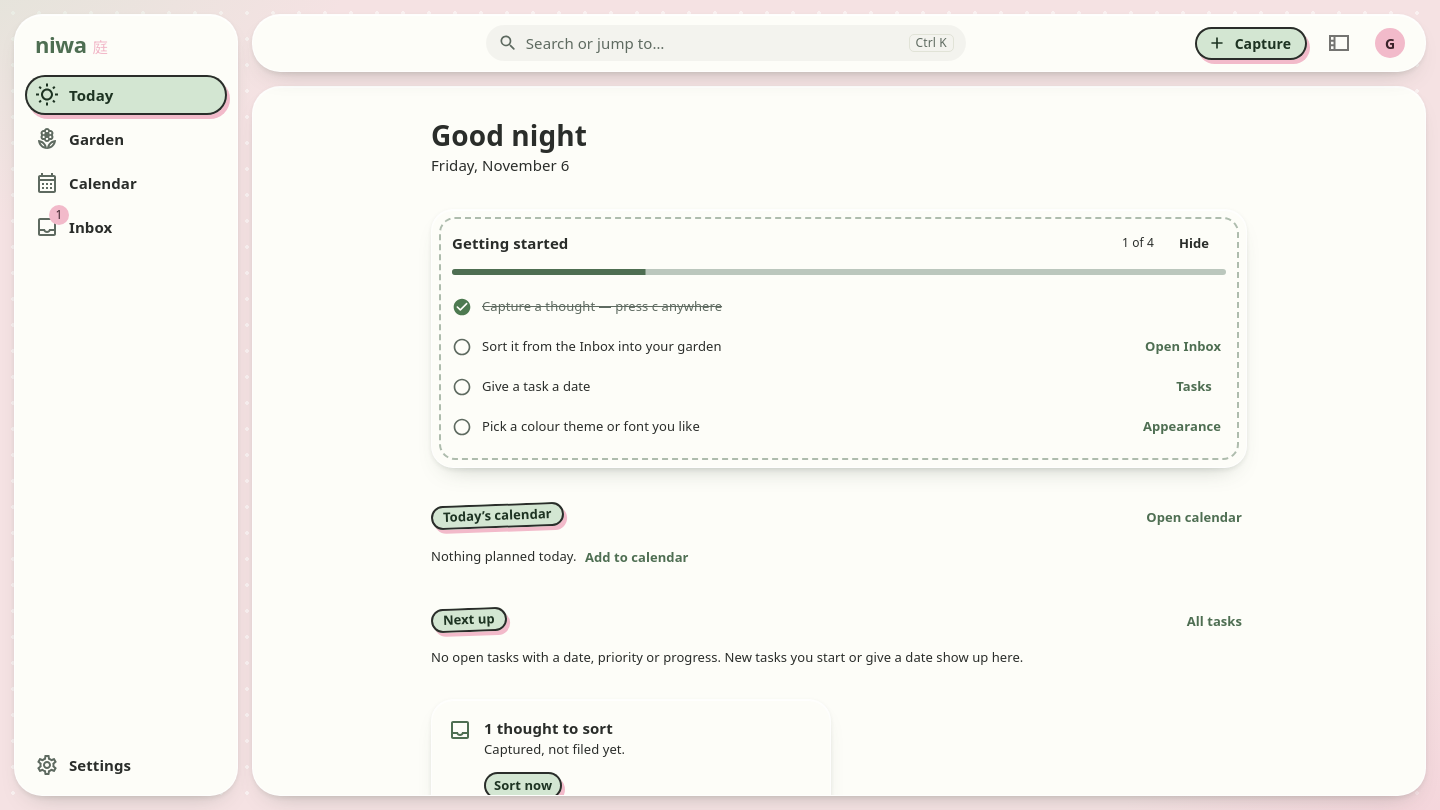
Getting started (B15) › ticks itself from the garden and can be hidden
Expected: the element "Getting started" shows "1 of 4", [431,209,1247,468]
Step 1. Click the button "Hide" → {"x": 1194, "y": 243}, box [1162,230,1226,257]
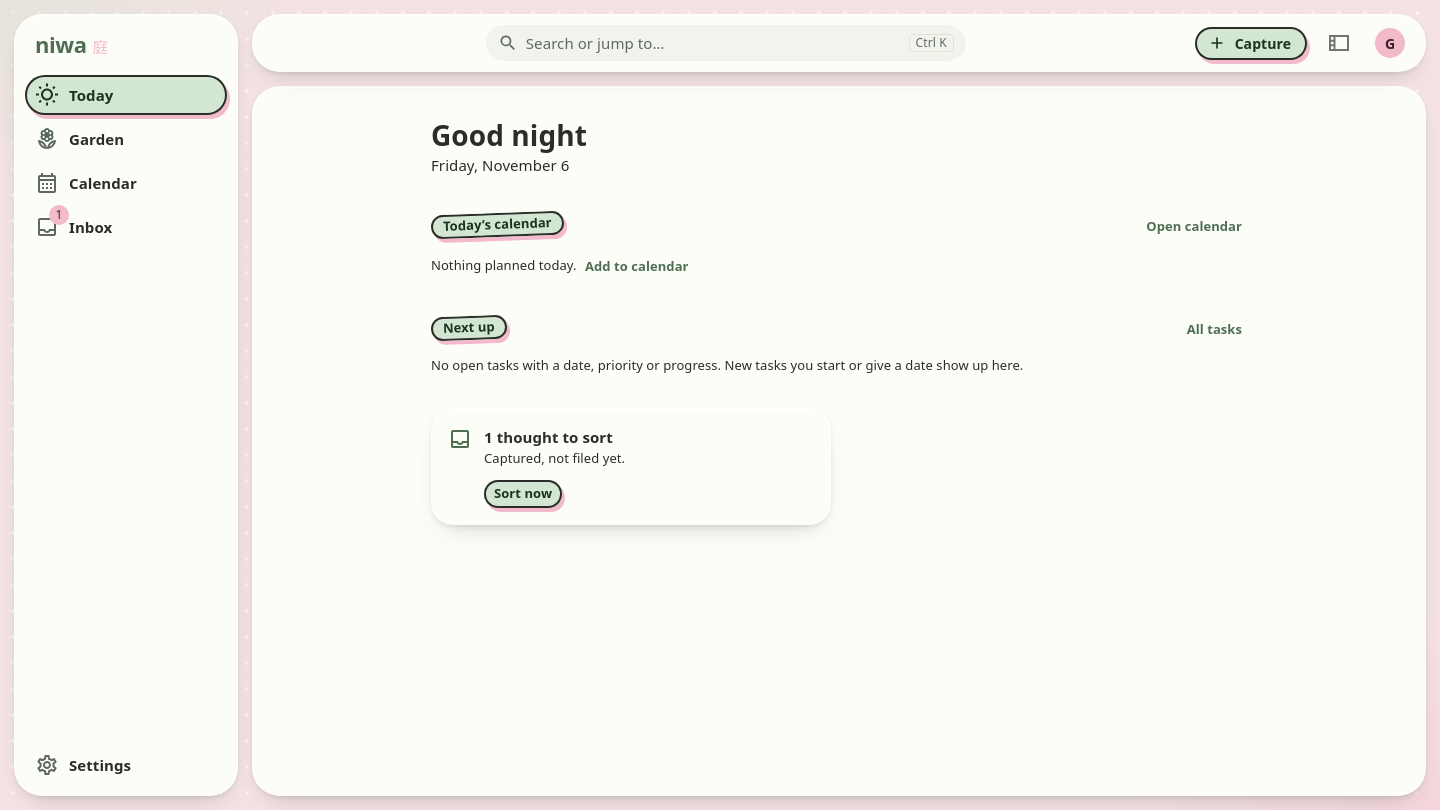
Expected: the heading "Getting started" is gone
